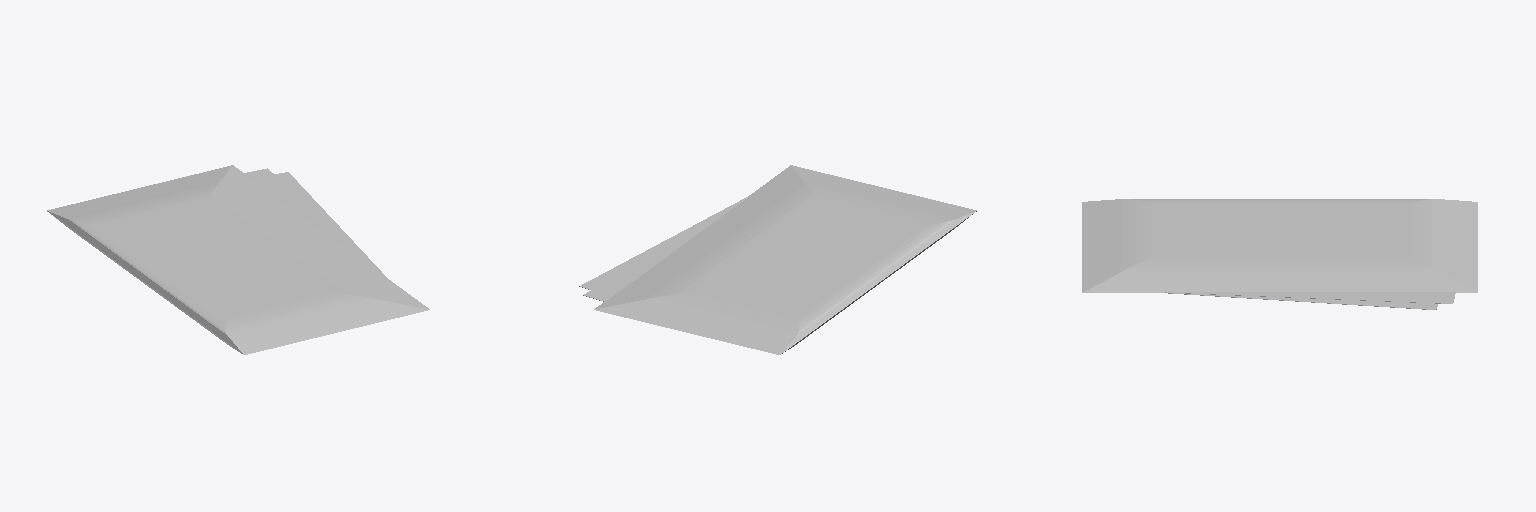
The model's file is folder_with_papers.obj.
3 views of the same model, side by side, from view 1: azimuth 30°, elevation 25°; view 2: azimuth 150°, elevation 25°; view 3: azimuth 270°, elevation 25° (orthographic).
Parts seen in each view (by area): view 1: Cube, Cube.001, Cube.002; view 2: Cube, Cube.001, Cube.002; view 3: Cube, Cube.001, Cube.002.
Part boxes in pixels (x1,y1,x2,y2): Cube: (47, 165, 429, 354); Cube.001: (243, 168, 385, 277); Cube.002: (275, 172, 385, 276); Cube: (594, 165, 976, 354); Cube.001: (583, 195, 750, 301); Cube.002: (579, 197, 746, 289); Cube: (1082, 199, 1477, 292); Cube.001: (1165, 292, 1455, 303); Cube.002: (1168, 293, 1437, 309).
Bounding box in the file's own units: 1.77 × 0.0947 × 2.74.